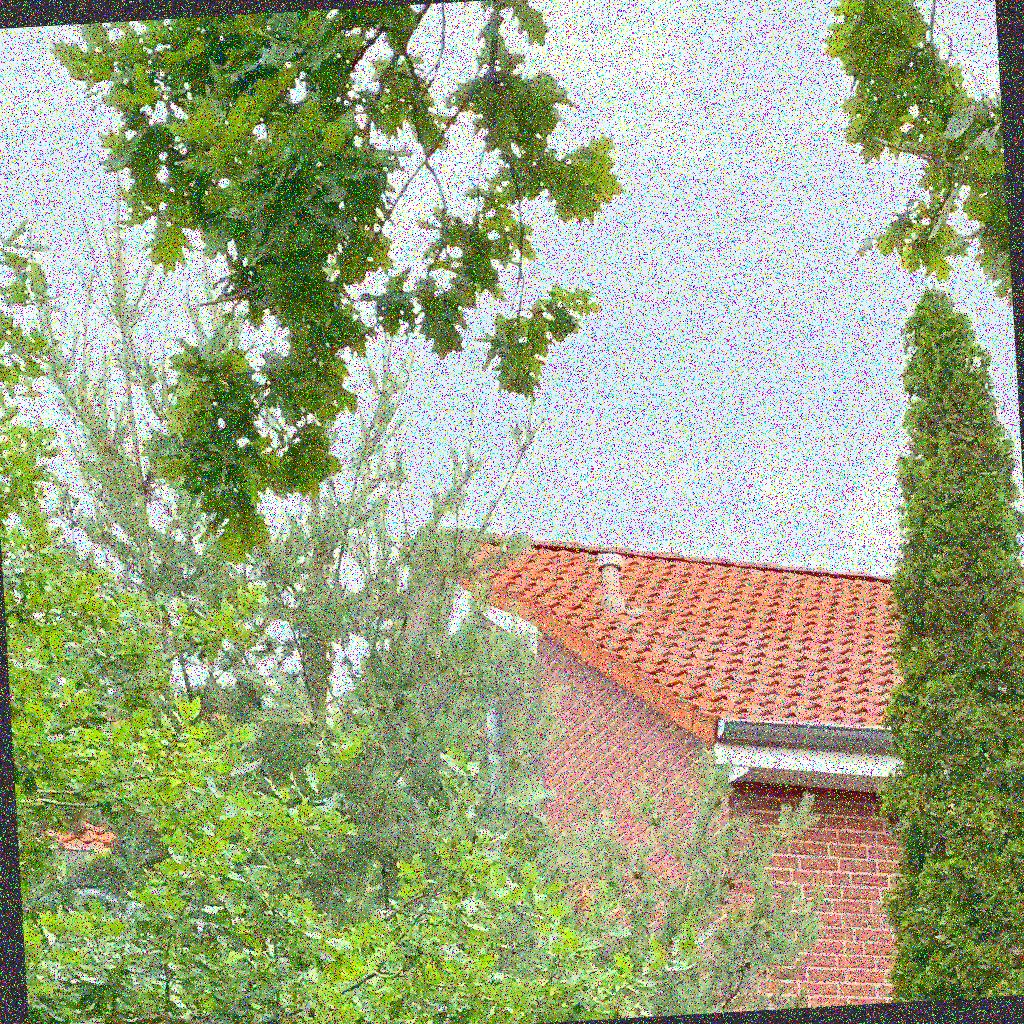tree: (1, 215, 824, 1023), (48, 1, 1024, 562), (1, 252, 698, 1024), (871, 286, 1023, 1007)
